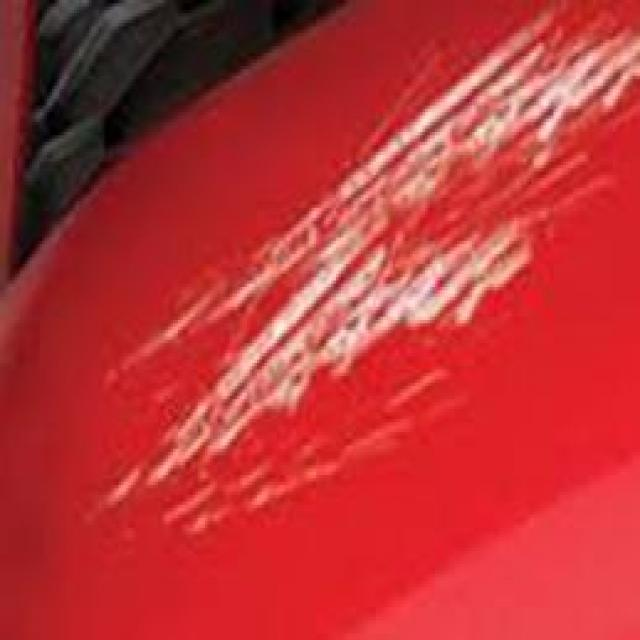scratch: (32, 1, 638, 572)
